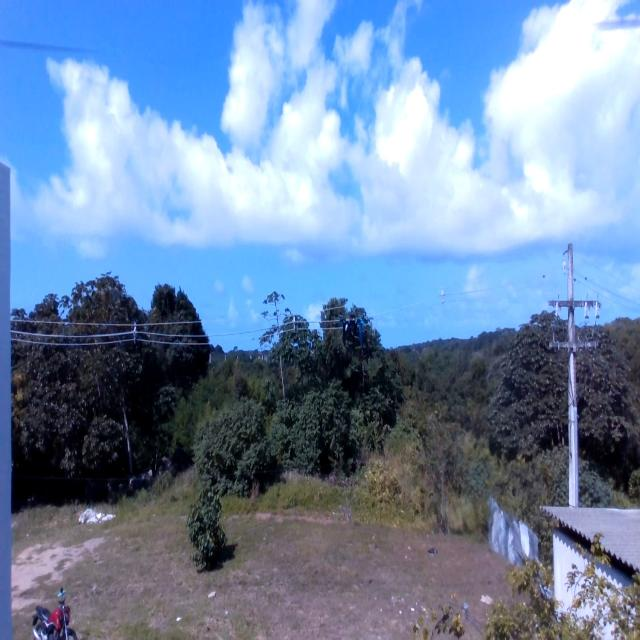-uav-: (341, 307, 368, 351)
